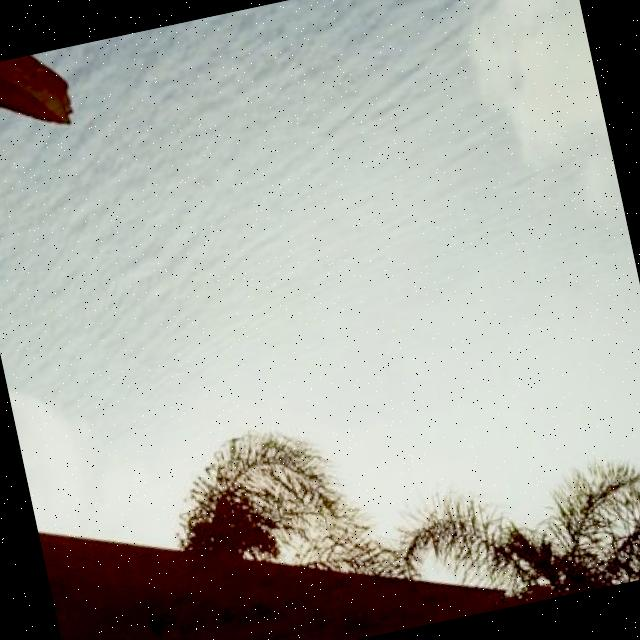Cc: (1, 1, 638, 409)
